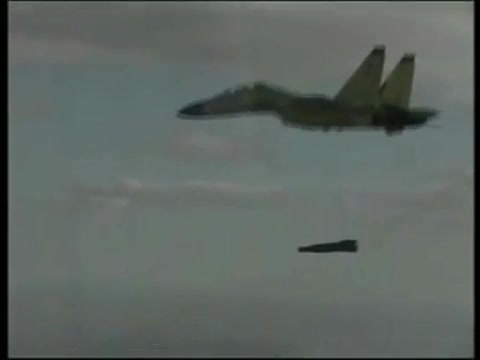aeroplane: (174, 44, 444, 139)
